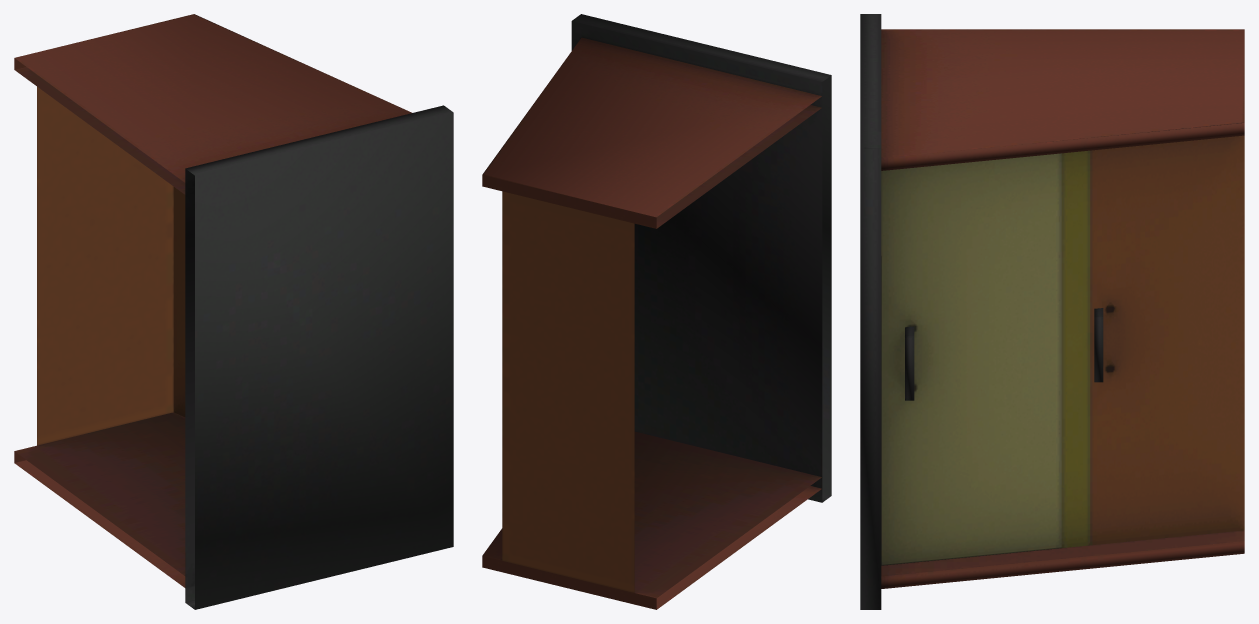
File: nt_bedside_drawer_LOD2.obj
The picture shows the model from 3 angles, left to right: view 1: azimuth 30°, elevation 25°; view 2: azimuth 150°, elevation 25°; view 3: azimuth 270°, elevation 25°; orthographic projection. The views are drawn at different scales.
Parts seen in each view (by area): view 1: mtl_nt_bedside_drawer; view 2: mtl_nt_bedside_drawer; view 3: mtl_nt_bedside_drawer.
Part boxes in pixels (x1=…): mtl_nt_bedside_drawer: x1=14, y1=14, x2=453, y2=609; mtl_nt_bedside_drawer: x1=482, y1=14, x2=831, y2=609; mtl_nt_bedside_drawer: x1=860, y1=14, x2=1244, y2=609.
Bounding box in the file's own units: 57.69 × 92.56 × 69.85.
